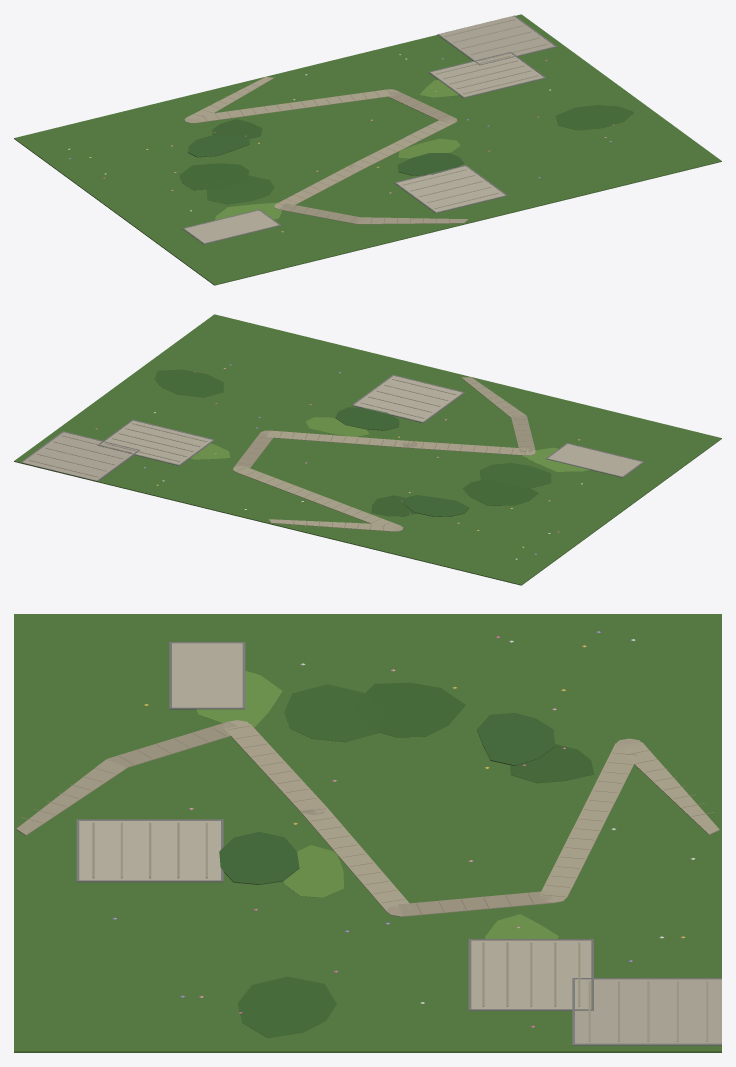
File: Decor_SamuraiShrine_Ground.fbx
3 views of the same model, one above another, from view 1: azimuth 30°, elevation 25°; view 2: azimuth 150°, elevation 25°; view 3: azimuth 270°, elevation 25° (orthographic). The views are drawn at different scales.
Parts seen in each view (by area): view 1: Ground_Body; view 2: Ground_Body; view 3: Ground_Body.
Boxes of the visible parts, box(x1,y1,x2,y2) form: Ground_Body: box(14, 14, 721, 285); Ground_Body: box(14, 314, 721, 585); Ground_Body: box(14, 614, 721, 1052).
Size of the model in its own units: 190 by 0.5 by 130.
